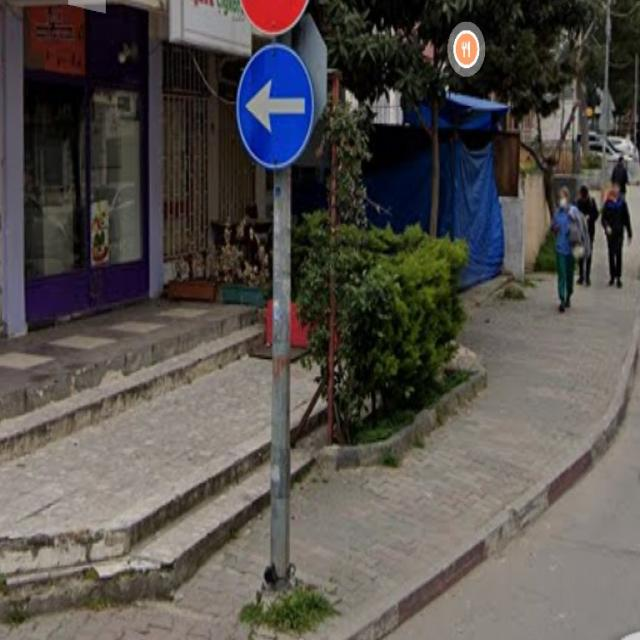Turn Left: (232, 41, 313, 171)
